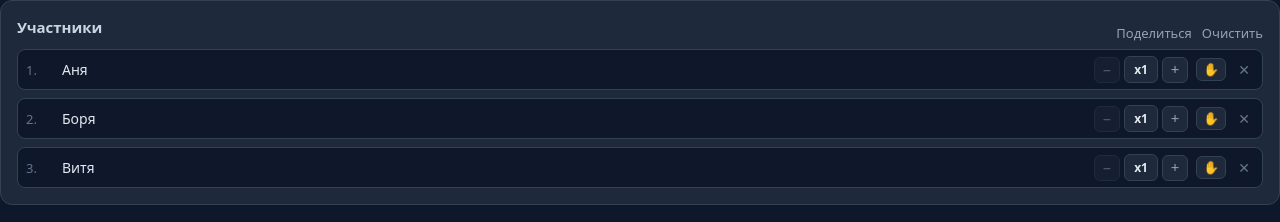
Test: ParticipantList — шаринг › показывает «Скопировано ✓» только при удачном копировании
Click the button "Поделиться".
click(1154, 33)  # box x1=1116 y1=24 x2=1192 y2=42
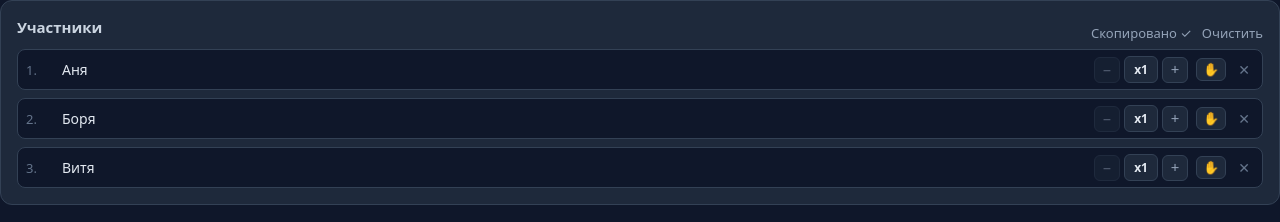
Now the button "Скопировано ✓" is shown, box x1=1091 y1=24 x2=1192 y2=42
